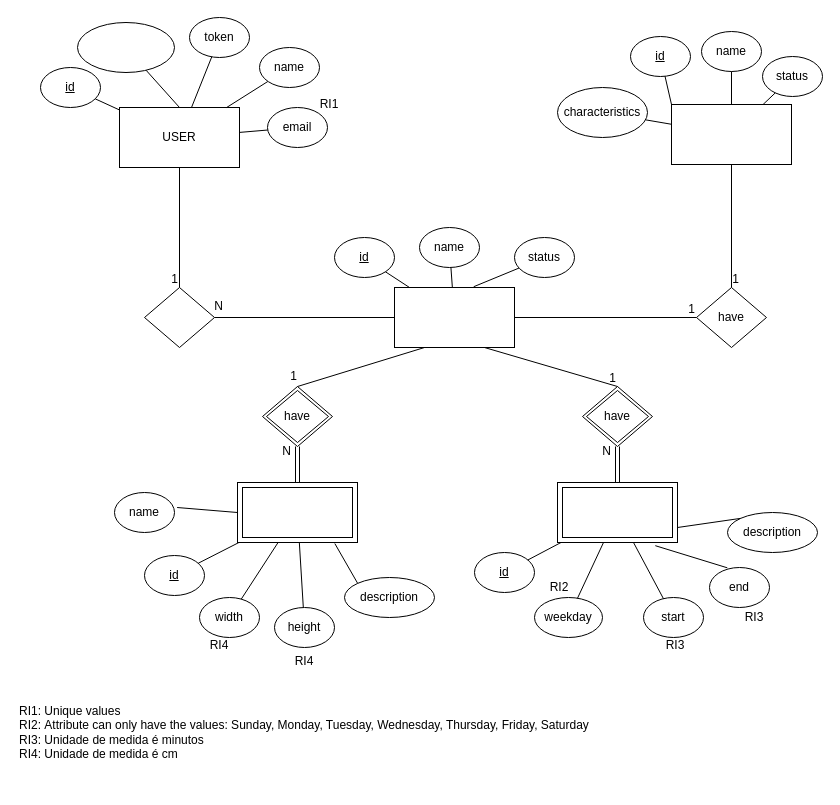
Image size: 840x805. Some labels were removed from this diagram. Here are the shapes that lost their labels. From the top down, the box of each, then its label:
(76, 22, 174, 72): hash_password
(670, 104, 792, 164): ROBOT
(144, 286, 214, 348): do
(394, 286, 514, 348): TASK
(236, 482, 358, 542): AREA
(556, 482, 678, 542): TIME
